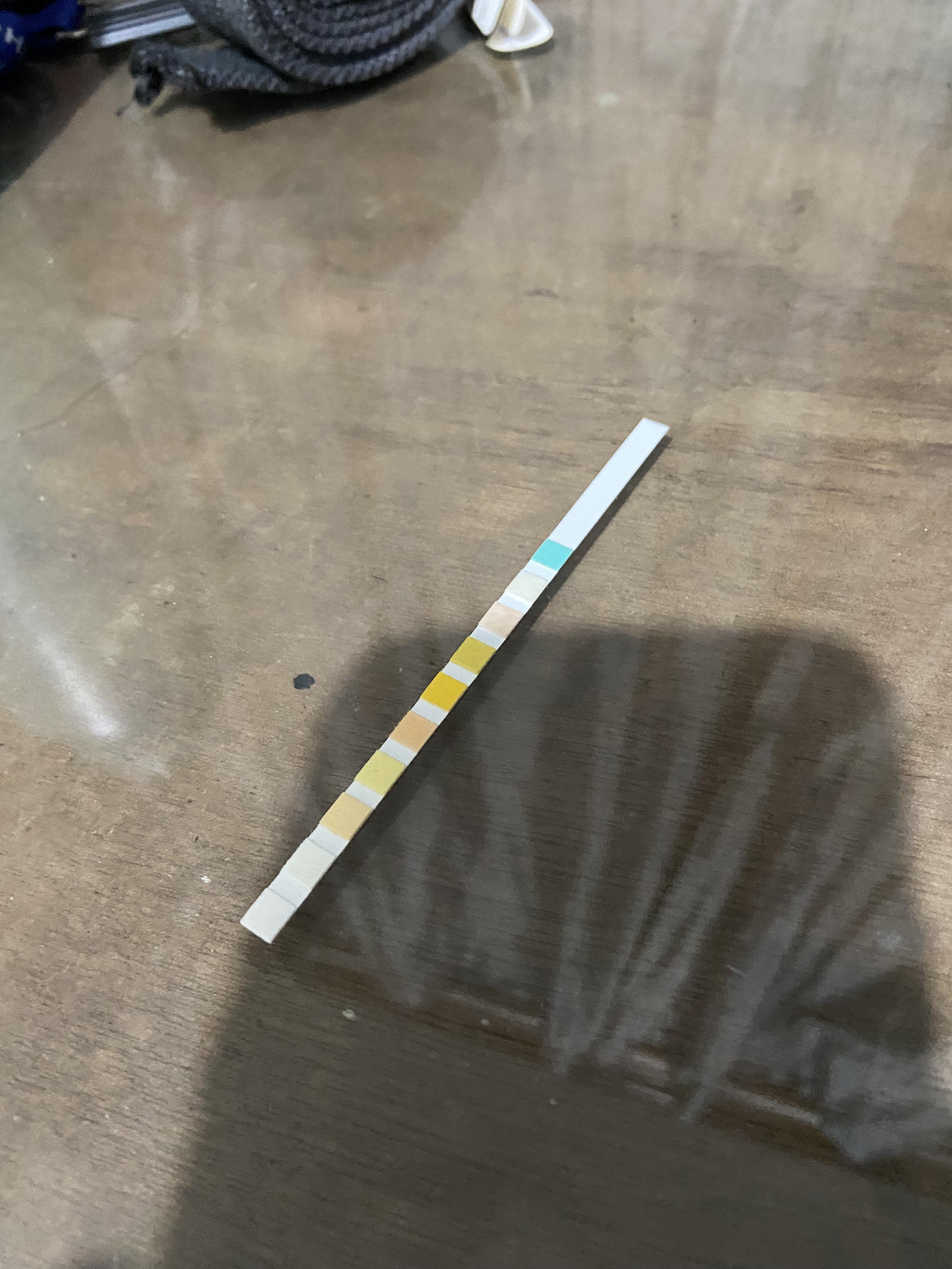Bilirubin: (515, 577, 539, 596)
Blood: (432, 681, 455, 702)
Glucose: (540, 546, 563, 563)
Ketone: (489, 609, 511, 629)
Leukocytes: (254, 903, 280, 928)
Nitrite: (296, 850, 322, 876)
Protein: (367, 761, 391, 785)
SpGravity: (462, 644, 484, 666)
Urobilinogen: (333, 804, 358, 829)
pH: (402, 720, 426, 741)
strip: (240, 418, 669, 943)
